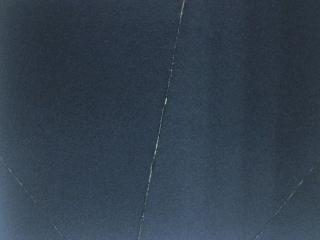crack: (133, 0, 190, 240), (0, 155, 65, 240), (253, 162, 320, 240)
